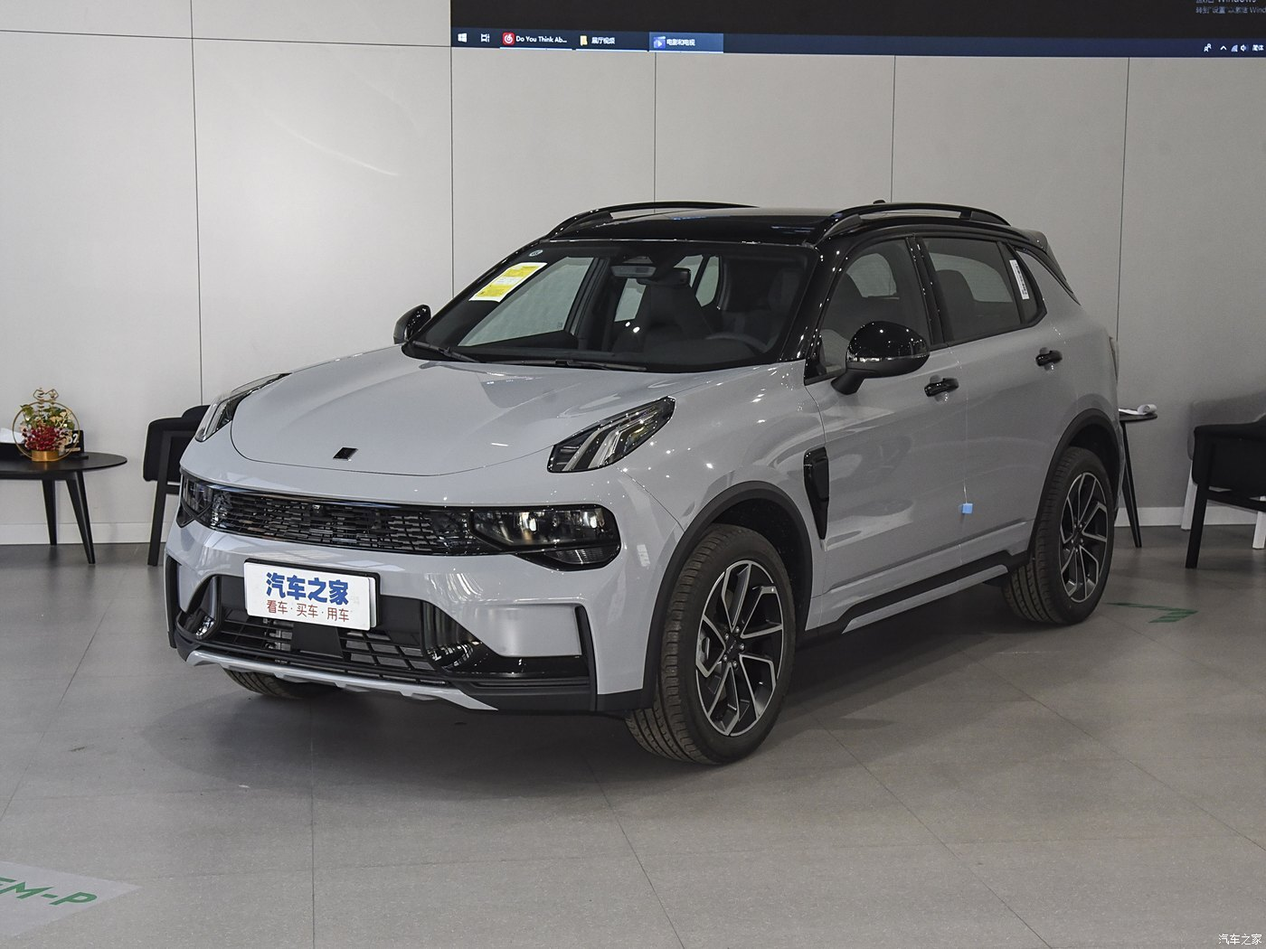LINK&CO: (333, 446, 357, 460)
